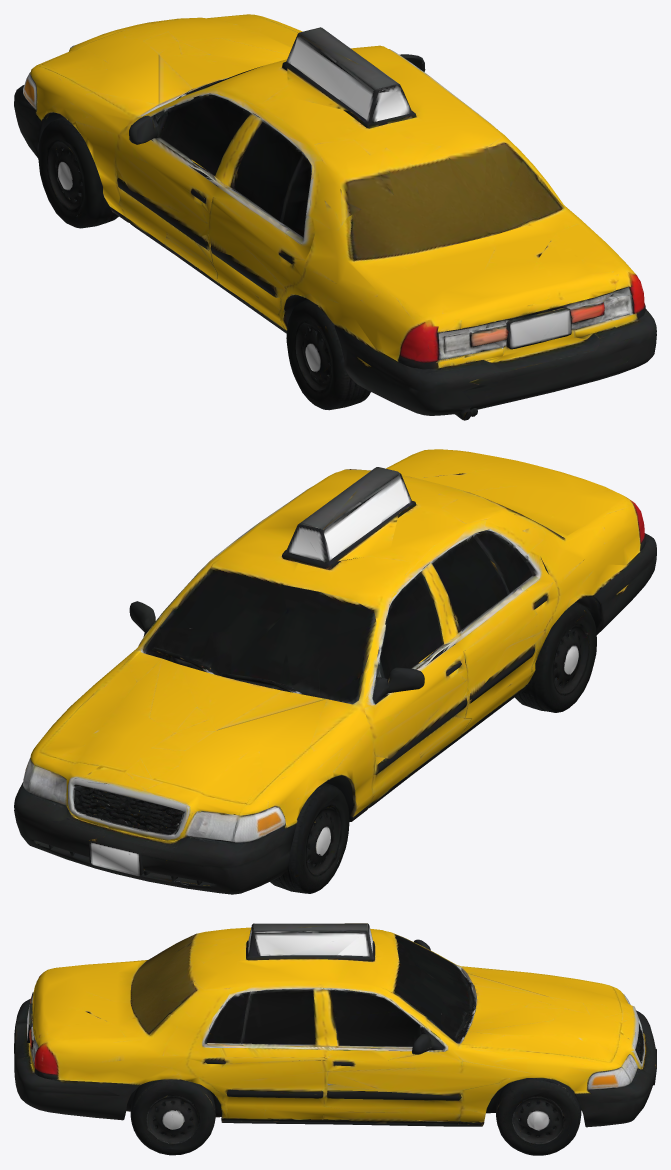
File: taxi.glb
3 views of the same model, one above another, from view 1: azimuth 30°, elevation 25°; view 2: azimuth 150°, elevation 25°; view 3: azimuth 270°, elevation 25° (orthographic). The views are drawn at different scales.
Visible parts, largest first — view 1: taxi; view 2: taxi; view 3: taxi.
Part boxes in pixels (<box>): taxi: <box>14,14,656,420</box>; taxi: <box>14,449,656,894</box>; taxi: <box>14,923,656,1155</box>.
Bounding box in the file's own units: 1.91 × 1.55 × 4.9.
Materials: 1 (1 with a texture image).
